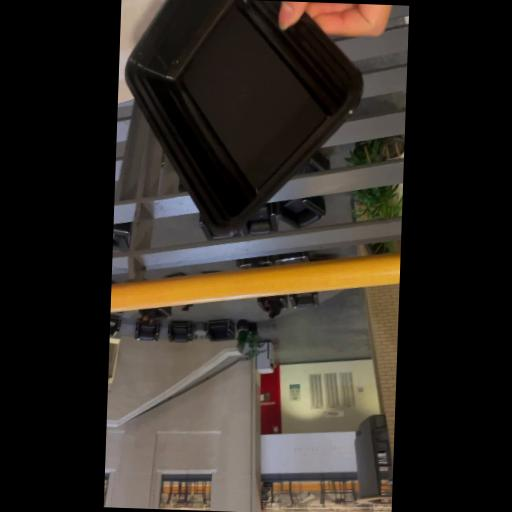rigid_plastic_container: (112, 0, 367, 270)
